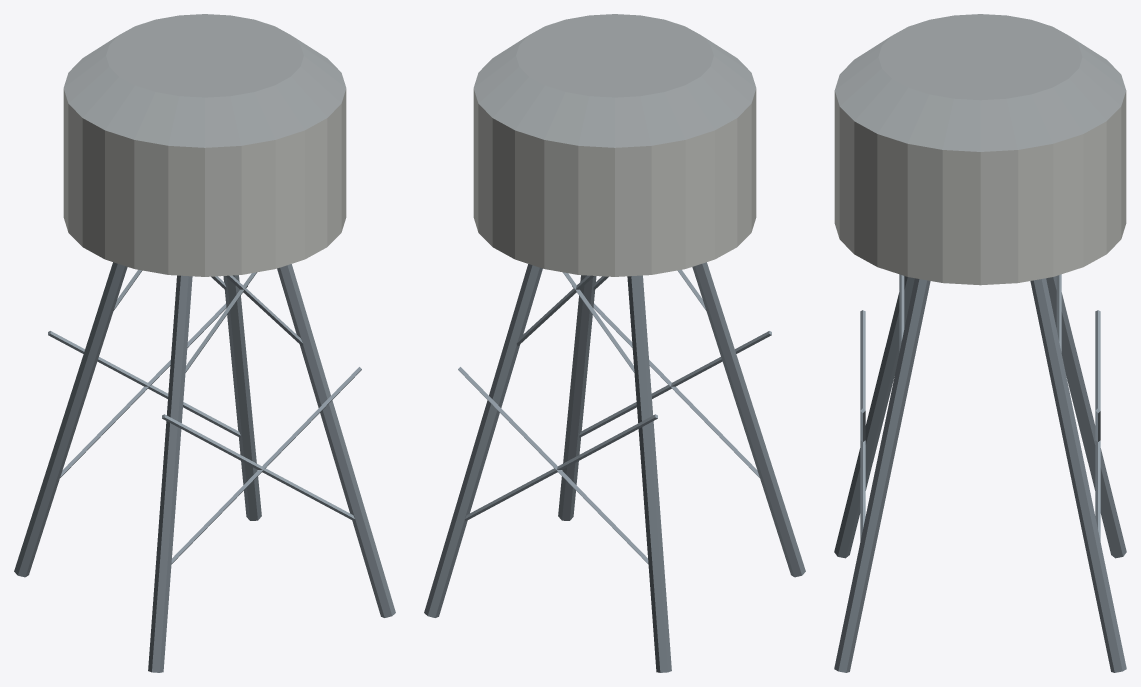
File: source.glb
The picture shows the model from 3 angles, left to right: view 1: azimuth 30°, elevation 25°; view 2: azimuth 150°, elevation 25°; view 3: azimuth 270°, elevation 25°; orthographic projection. The views are drawn at different scales.
Parts seen in each view (by area): view 1: worldgen; view 2: worldgen; view 3: worldgen.
Boxes of the visible parts, left/top/right/bottom form: worldgen: left=14, top=14, right=395, bottom=672; worldgen: left=424, top=14, right=805, bottom=672; worldgen: left=834, top=14, right=1126, bottom=672.
Bounding box in the file's own units: 20 × 42.15 × 20.08.
